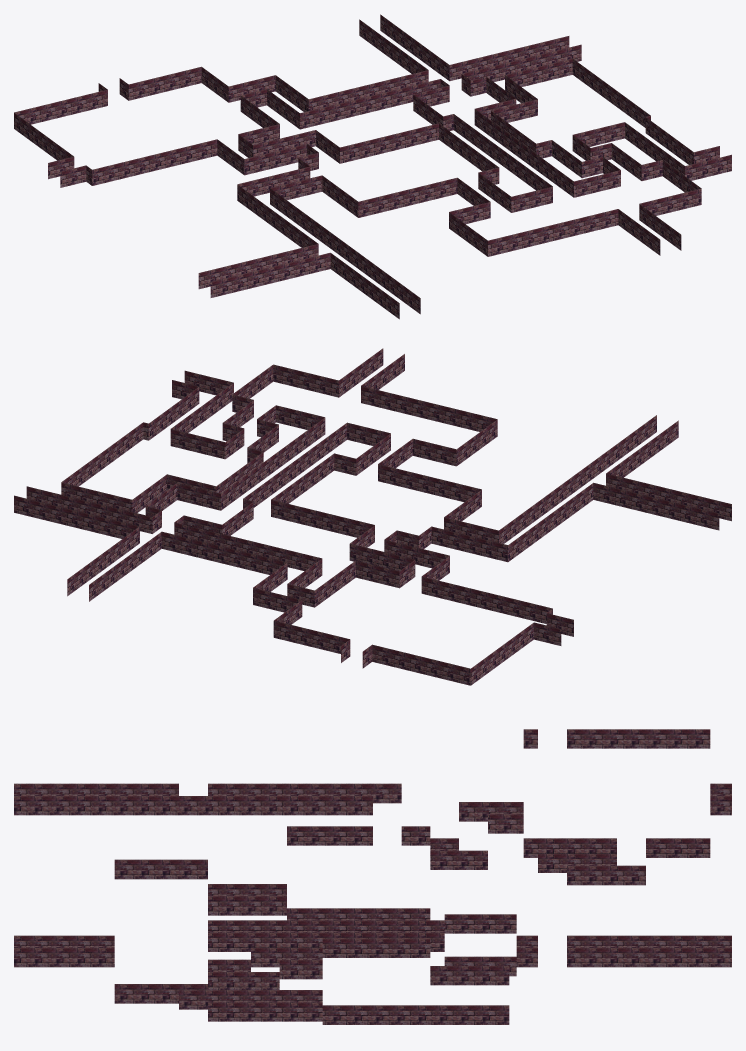
3 views of the same model, one above another, from view 1: azimuth 30°, elevation 25°; view 2: azimuth 150°, elevation 25°; view 3: azimuth 270°, elevation 25° (orthographic). The views are drawn at different scales.
Visible parts, largest first — view 1: DB1; view 2: DB1; view 3: DB1.
Boxes of the visible parts, box(x1,y1,x2,y2) form: DB1: box(14, 14, 731, 319); DB1: box(14, 348, 731, 685); DB1: box(14, 729, 731, 1024).
Size of the model in its own units: 100 by 3 by 100.
Materials: 1 (1 with a texture image).
